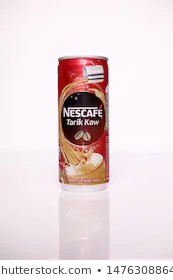nescafe-can: (55, 54, 112, 188)
